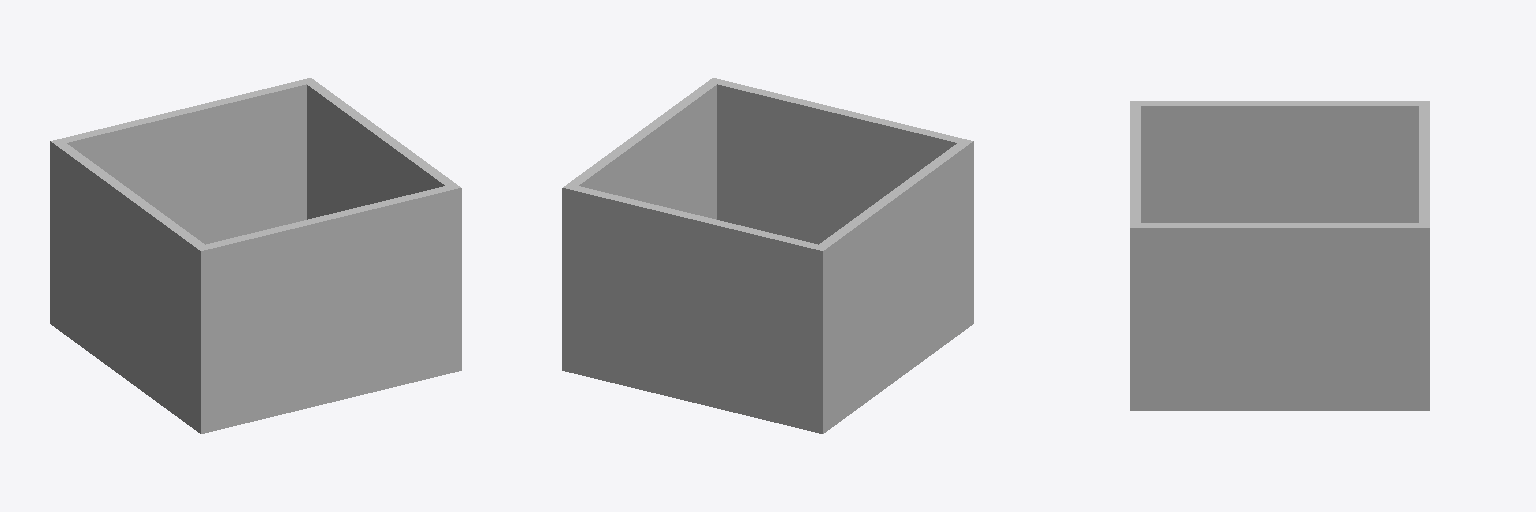
The model's file is auto_sifter_box.obj.
3 renders of one model, left to right at view 1: azimuth 30°, elevation 25°; view 2: azimuth 150°, elevation 25°; view 3: azimuth 270°, elevation 25°, orthographic.
Visible parts, largest first — view 1: Cube.007_Cube.001; view 2: Cube.007_Cube.001; view 3: Cube.007_Cube.001.
Part boxes in pixels (bbox=[...]): Cube.007_Cube.001: bbox=[50, 78, 461, 433]; Cube.007_Cube.001: bbox=[562, 78, 973, 433]; Cube.007_Cube.001: bbox=[1130, 101, 1429, 410].
Bounding box in the file's own units: 2 × 1.34 × 2.